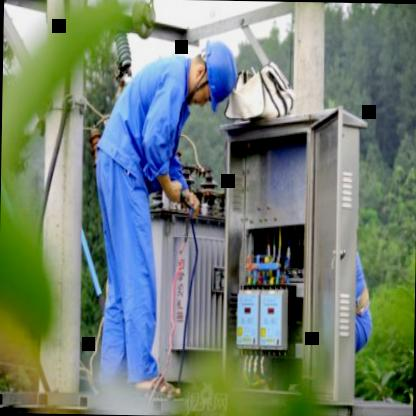helmet: (193, 34, 242, 110)
